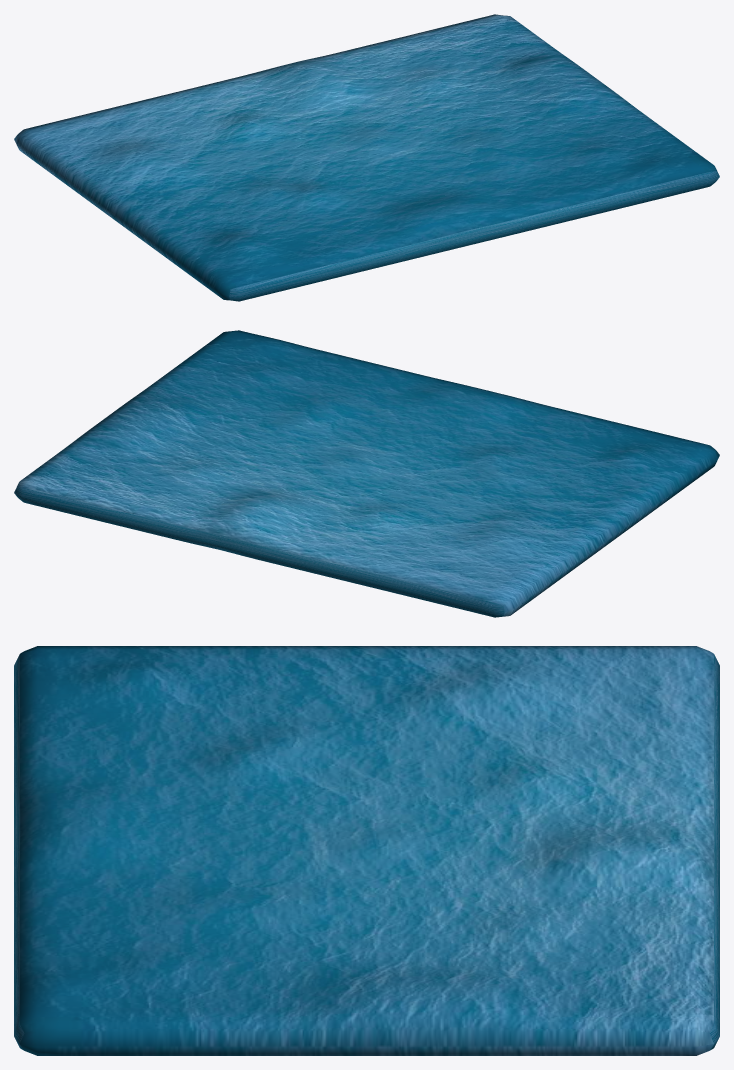
File: more.obj
The picture shows the model from 3 angles, top to bottom: view 1: azimuth 30°, elevation 25°; view 2: azimuth 150°, elevation 25°; view 3: azimuth 270°, elevation 25°; orthographic projection. The views are drawn at different scales.
Visible parts, largest first — view 1: Box001 Mesh; view 2: Box001 Mesh; view 3: Box001 Mesh.
Boxes of the visible parts, x1=… form: Box001 Mesh: x1=14, y1=14, x2=719, y2=301; Box001 Mesh: x1=14, y1=330, x2=719, y2=617; Box001 Mesh: x1=14, y1=646, x2=719, y2=1055.
Size of the model in its own units: 2629 by 130 by 2004.
1 material, 1 textured.
